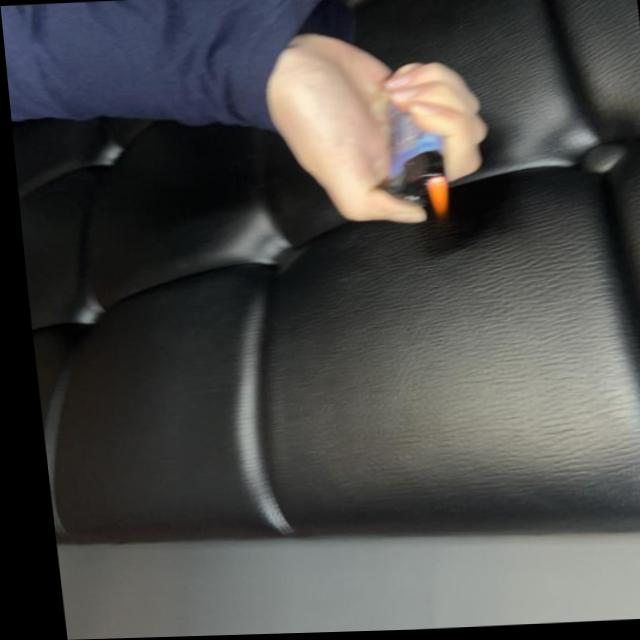Fire: (418, 175, 446, 223)
